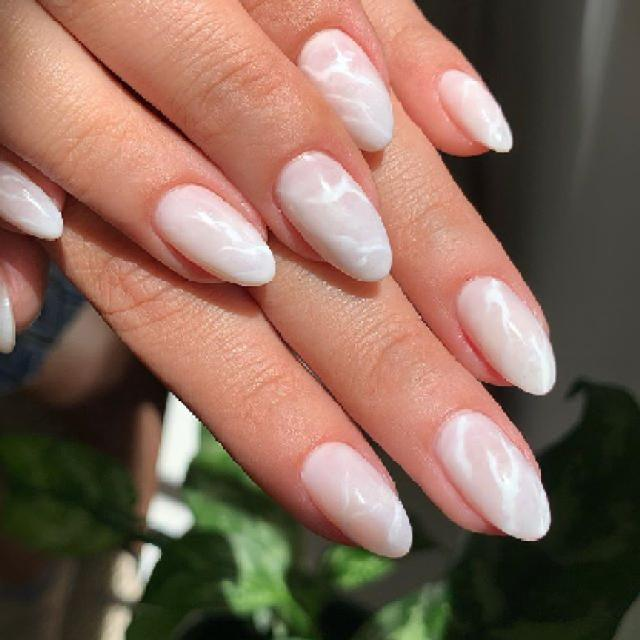Nail: (274, 150, 391, 281), (436, 408, 550, 537), (300, 442, 411, 557), (152, 184, 275, 286), (298, 29, 394, 151), (458, 276, 555, 393), (438, 70, 511, 151), (0, 162, 62, 239)
